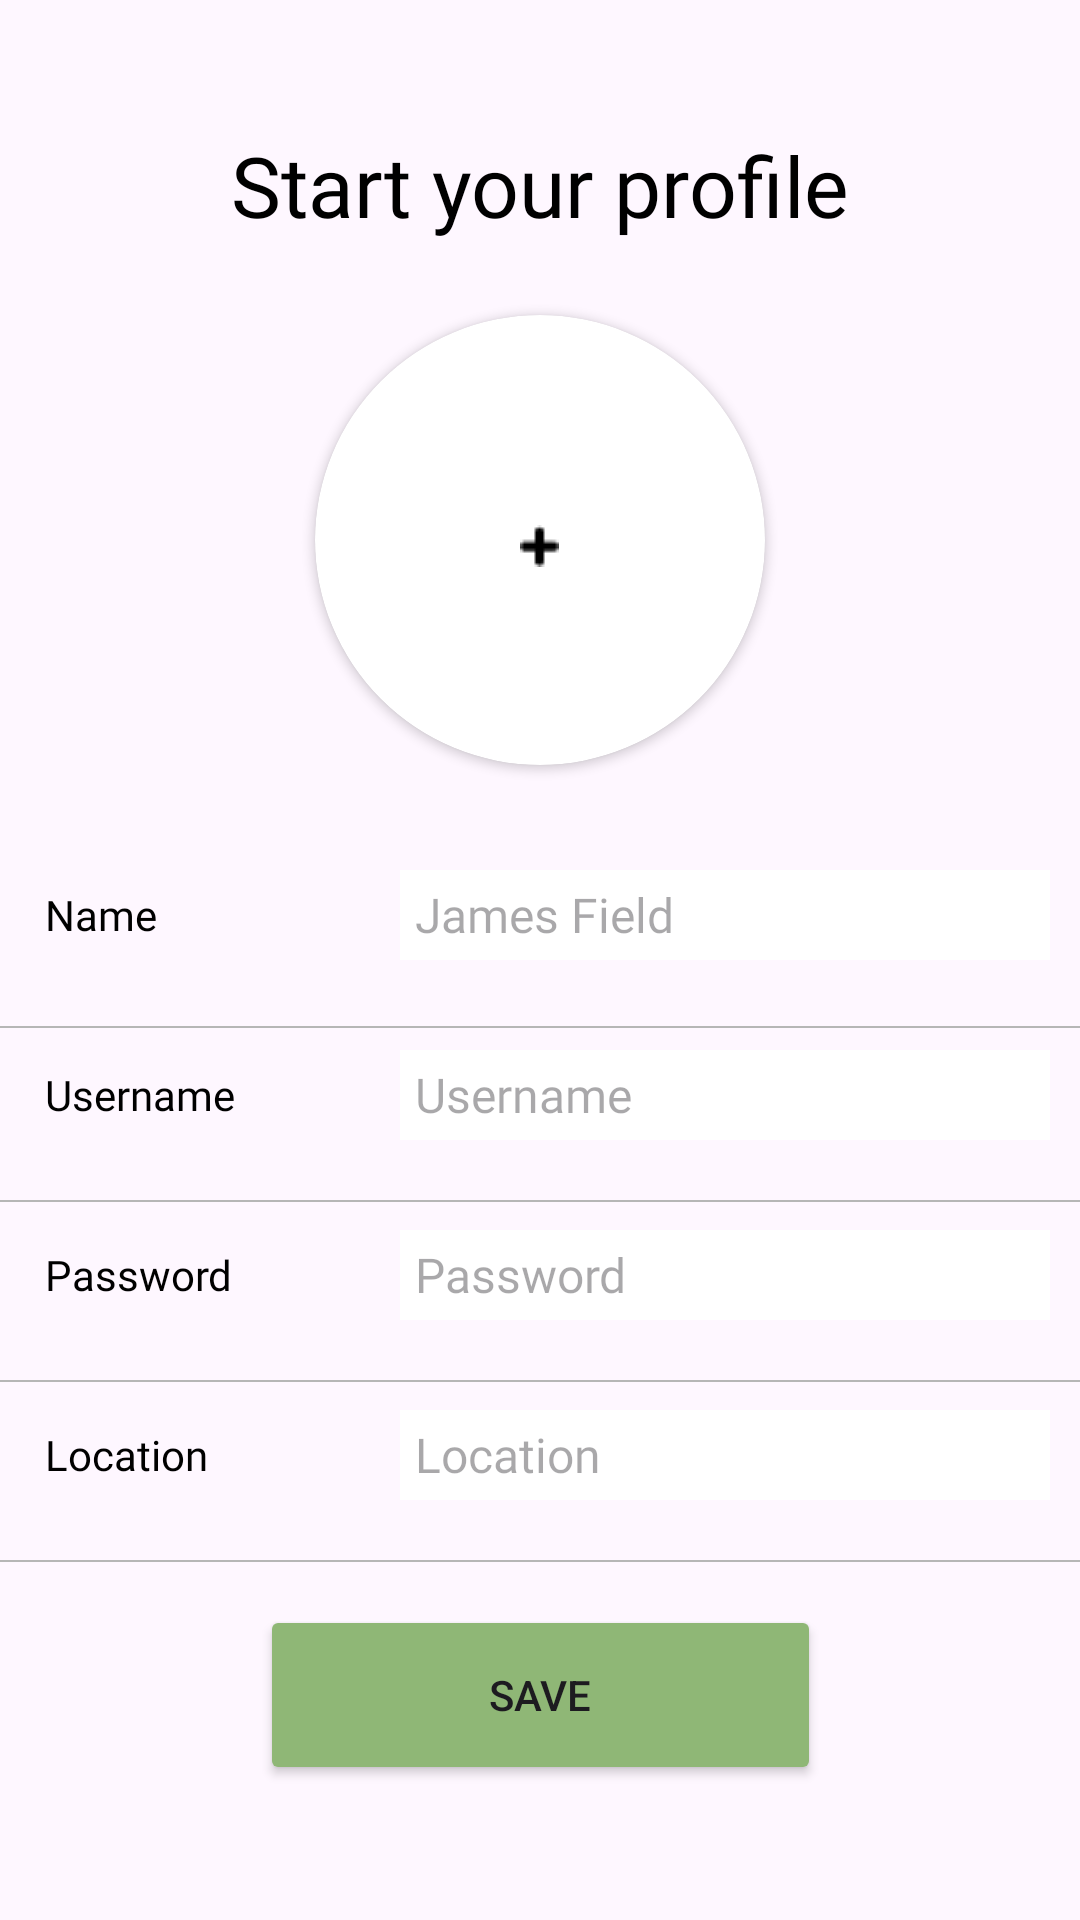

Where icons sit on this 1080w x 1920h app screen, as region(x1, y1, x2, y2):
plusimg: region(520, 525, 559, 567)
